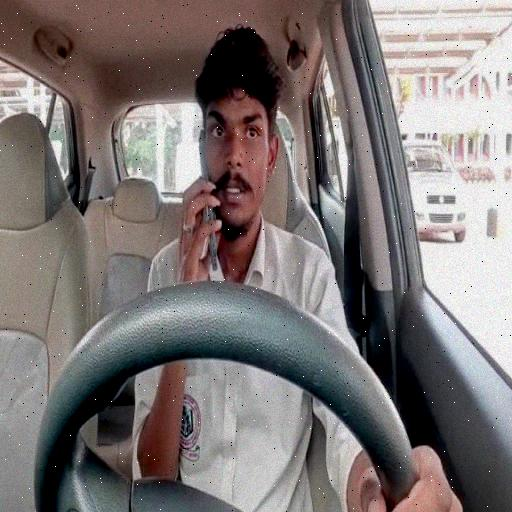Talking_on_phone: (175, 21, 282, 283)
